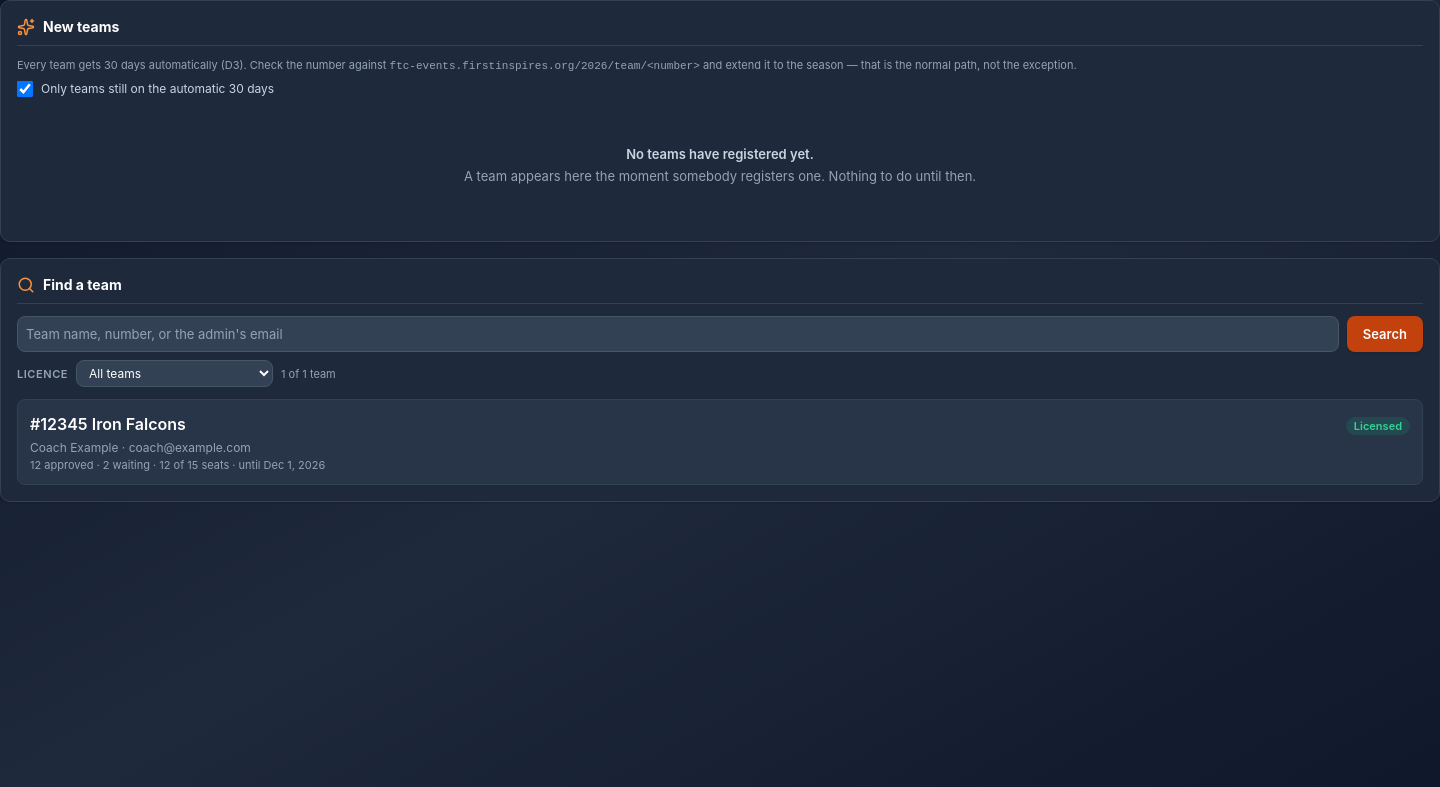
Scenario: allowing an account a second team › surfaces a refusal instead of reporting success
Click the text "#12345 Iron Falcons" at [108, 424], box [30,412,186,436]
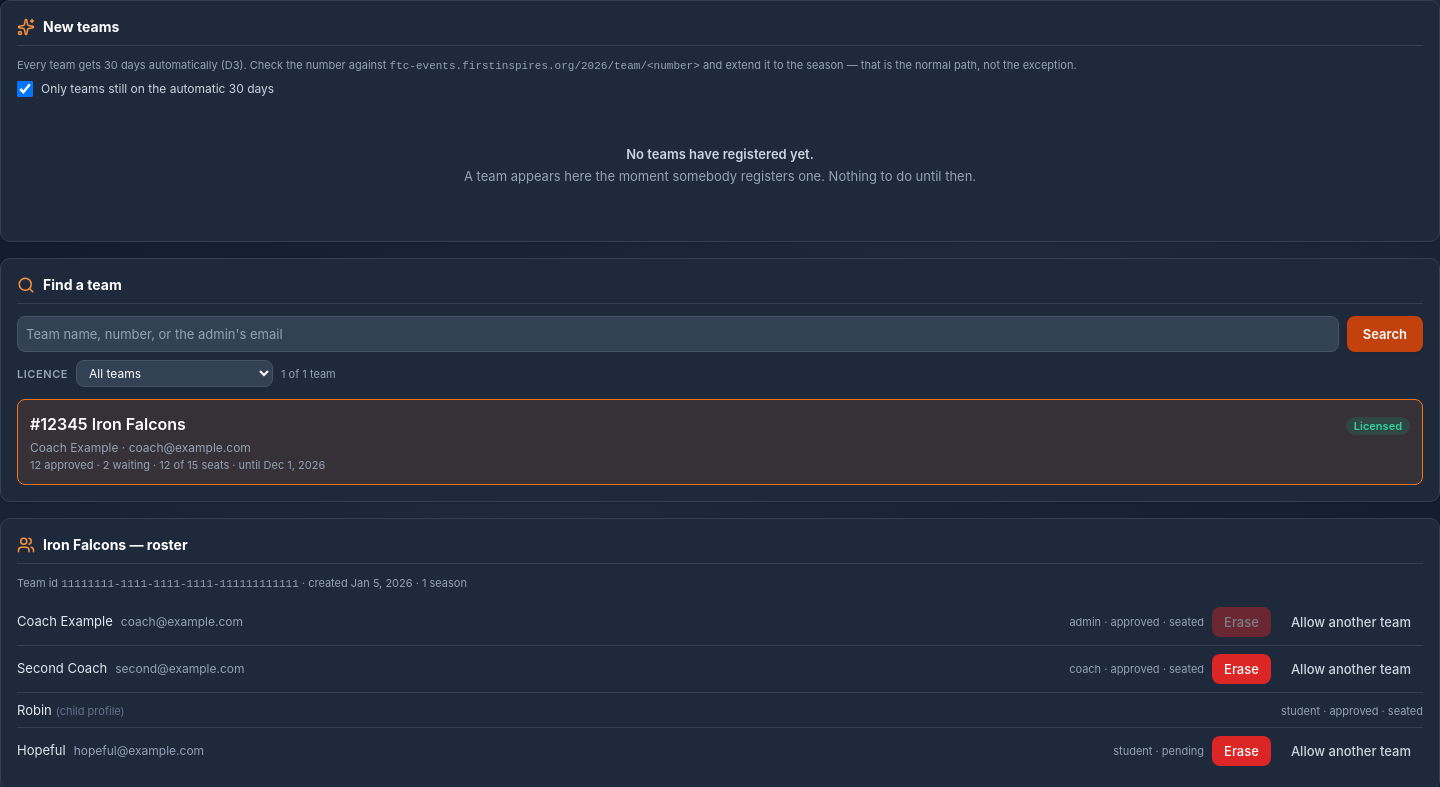
Check: the heading "Iron Falcons — roster" is shown, box [17,535,188,555]
Click the button with test id "grant-extra-team-m-admin" at [1351, 622], box [1279,607,1423,637]
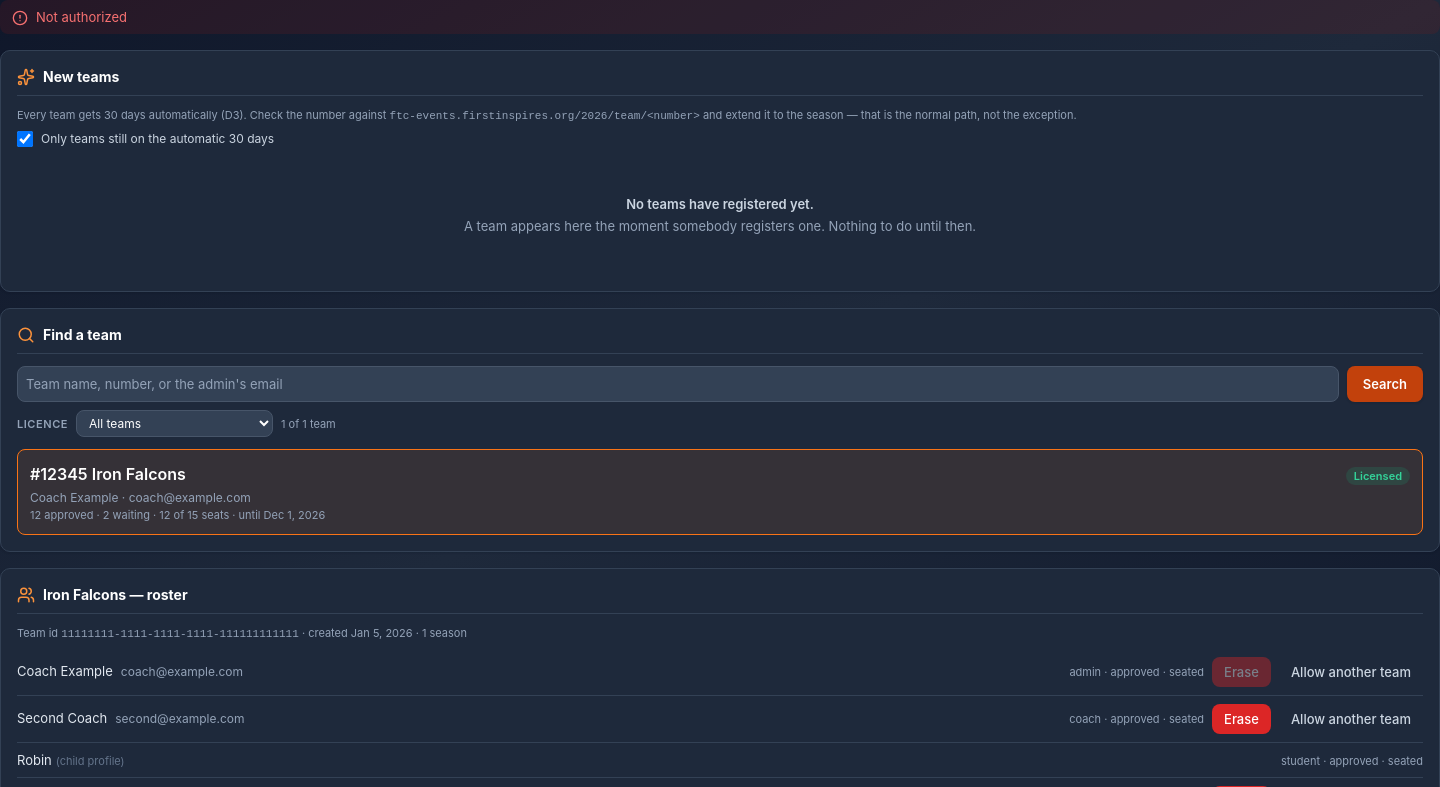
Check: the text "Not authorized" is shown, box [36,8,127,26]
